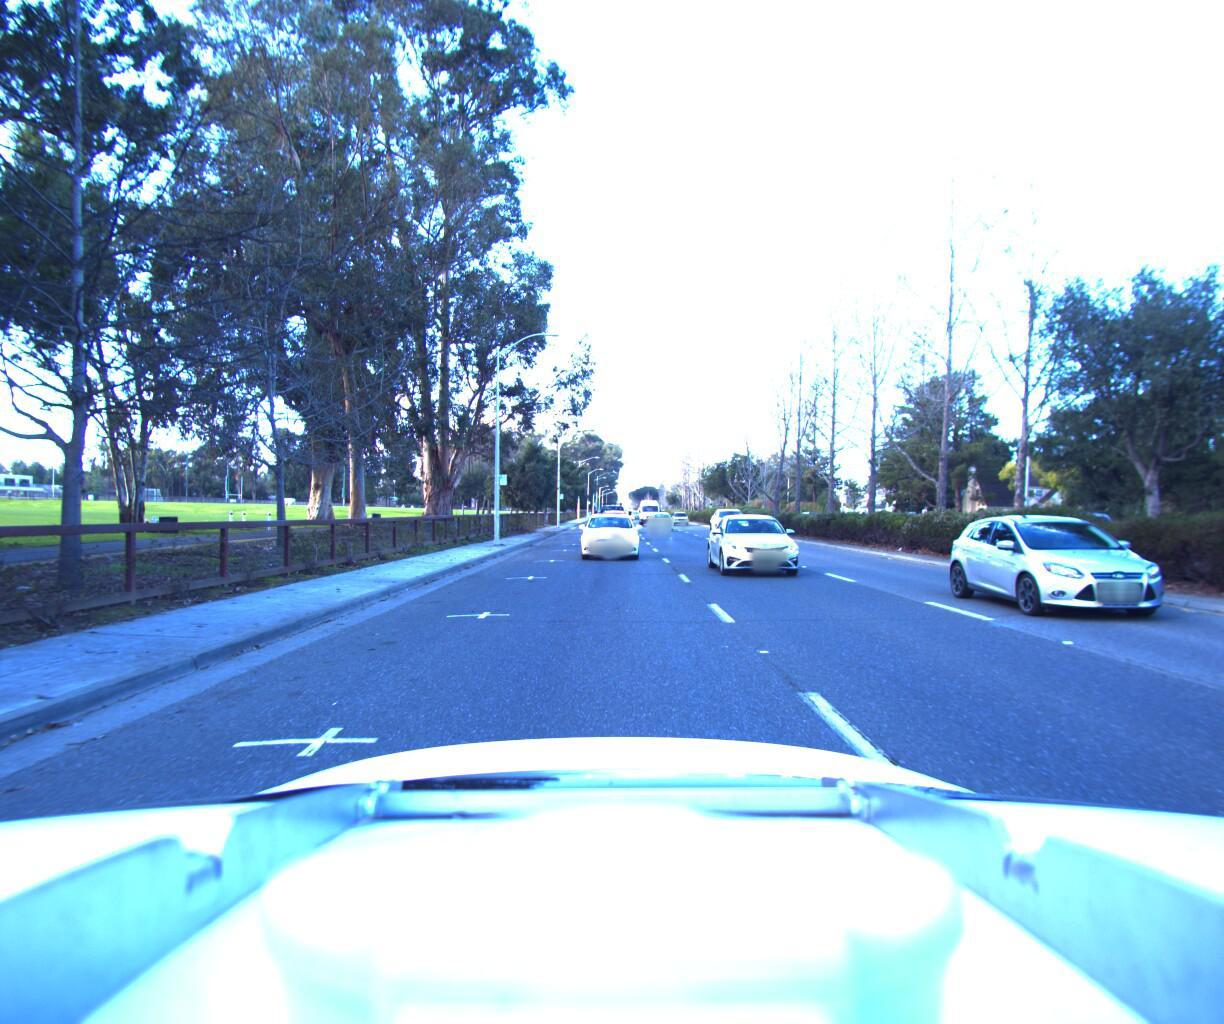car: (978, 508, 1224, 641), (710, 508, 816, 583), (582, 507, 645, 558), (710, 502, 755, 535), (599, 505, 636, 537), (597, 493, 626, 529), (648, 507, 677, 528), (637, 496, 658, 522)
